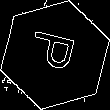P_E: (26, 31, 84, 79)
